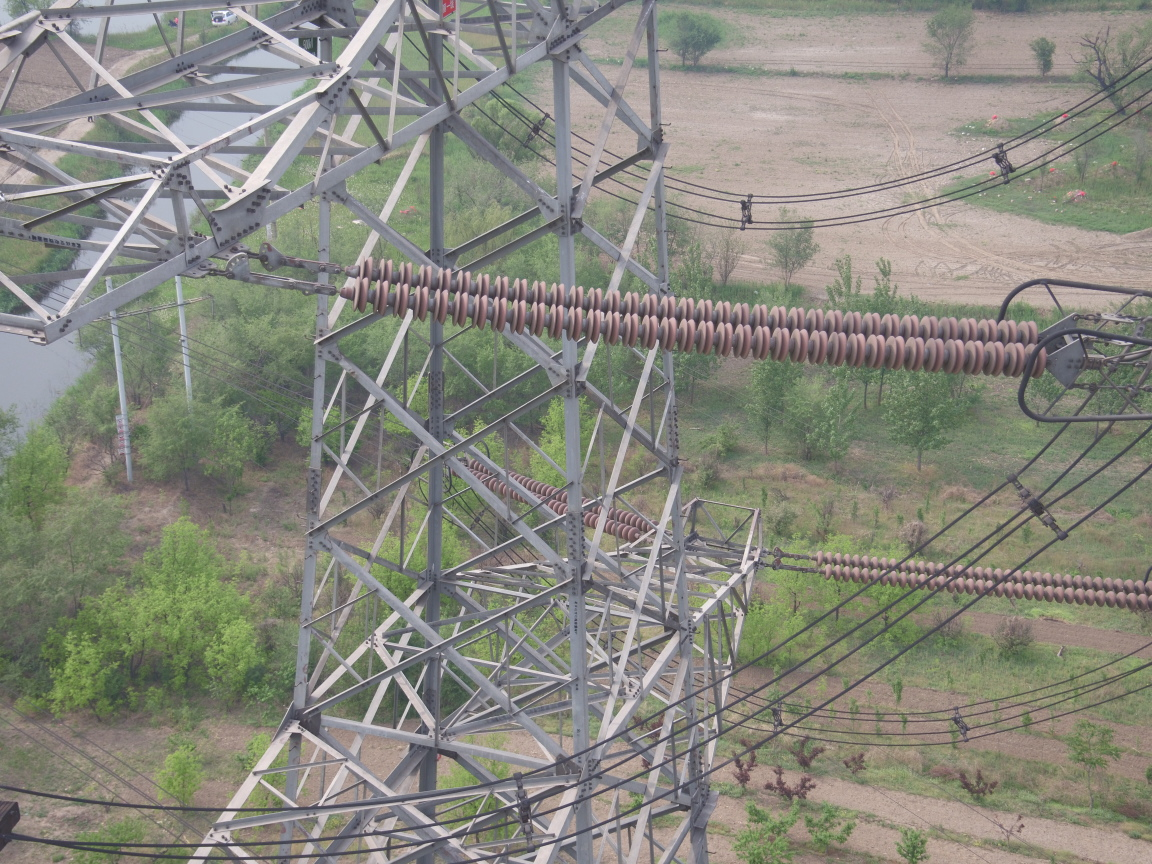insulator: (297, 254, 1068, 381), (800, 547, 1152, 613)
